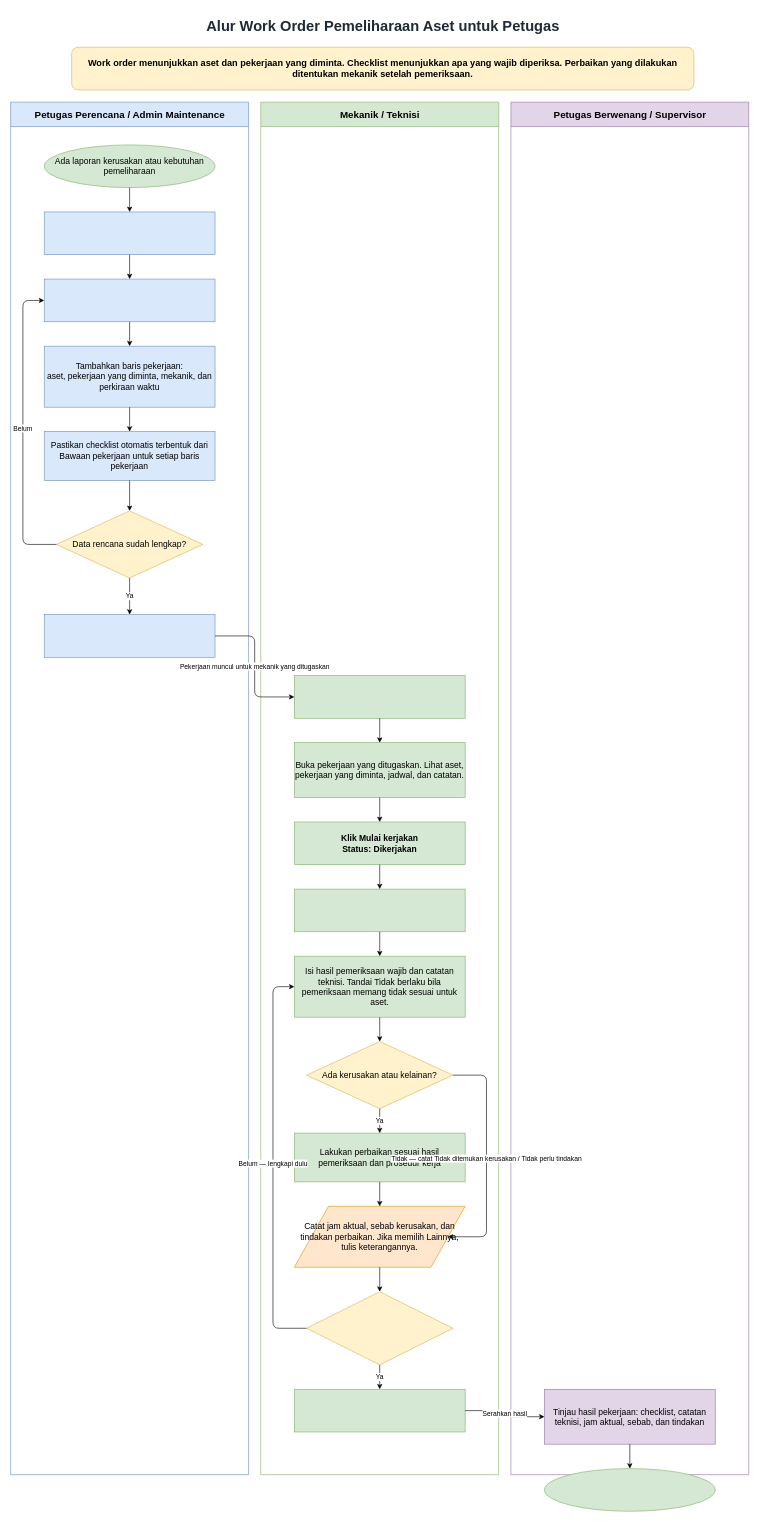
Image size: 766x1522. Some labels were removed from this diagram. Here are the shapes that lost their labels. From the top down, the centre of each, then its label:
At point 129,233: "Buat work order baru Status: Draf".
At point 129,300: "Isi tipe work order, jadwal, dan keterangan pekerjaan".
At point 129,635: "Klik Jadwalkan Status: Dijadwalkan".
At point 379,696: "Buka menu Work order lalu pilih Pekerjaan saya".
At point 379,910: "Periksa aset dan buka checklist pada setiap baris pekerjaan".
At point 379,1328: "Checklist wajib, sebab, dan tindakan sudah lengkap?".
At point 379,1410: "Klik Selesaikan Status: Selesai".
At point 629,1489: "Klik Tutup Status: Ditutup".
